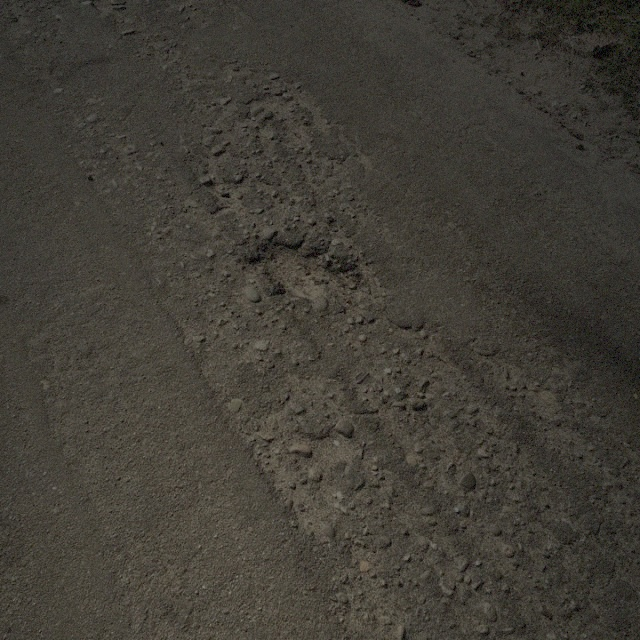pothole: (246, 235, 356, 302)
